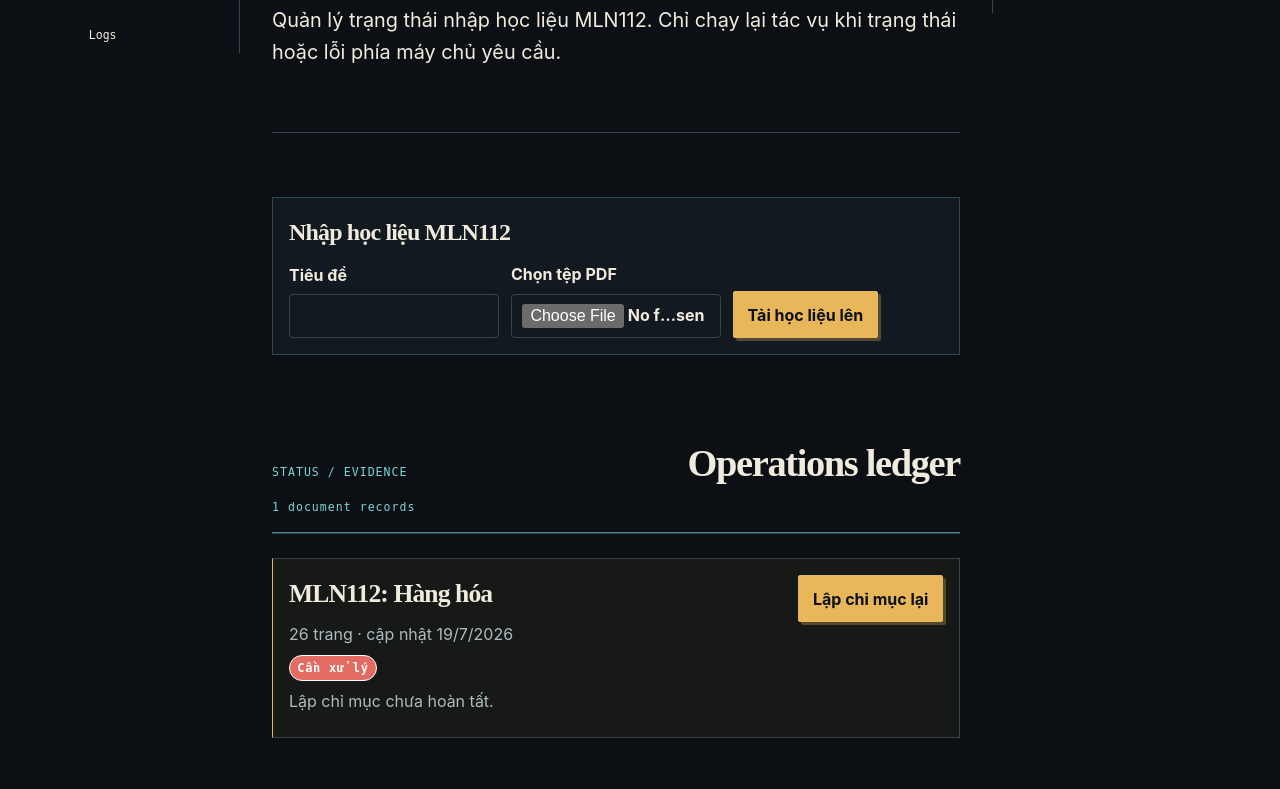
it: AdminDocumentsPage › lists ingestion status and requeues a failed index job through the API
This screenshot has width=1280, height=789.
(page scrolled)
Check: the heading "MLN112: Hàng hóa" is shown, box [289, 576, 513, 614]
Check: the text "Lập chỉ mục chưa hoàn tất." is shown, box [289, 689, 513, 713]
Step 1. Click the button "Lập chỉ mục lại" → (871, 599), box [798, 576, 943, 622]
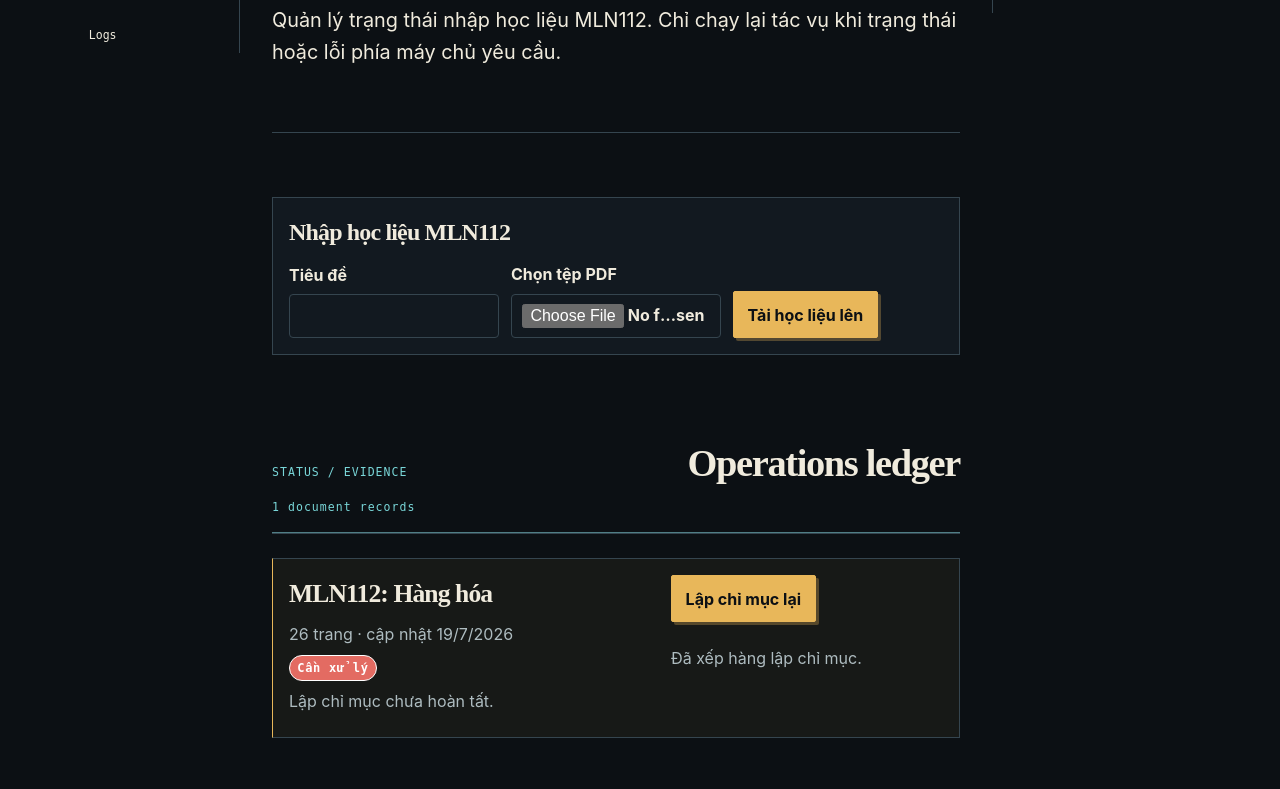
Check: the text "Đã xếp hàng lập chỉ mục." is shown, box [671, 648, 862, 668]
